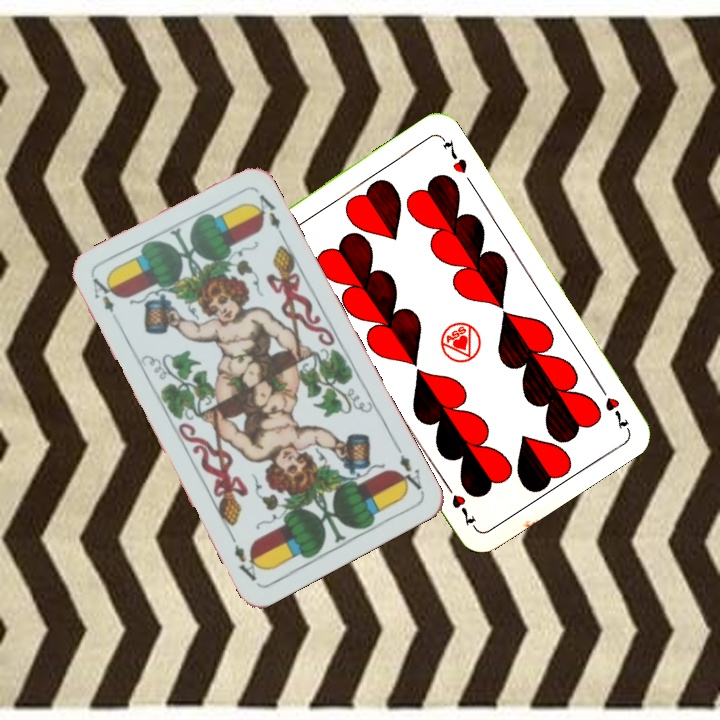EA: (390, 439, 424, 496), (88, 273, 117, 316)
H7: (593, 379, 631, 432)
